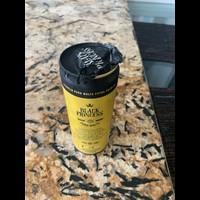blackprincess: (55, 39, 123, 160)
